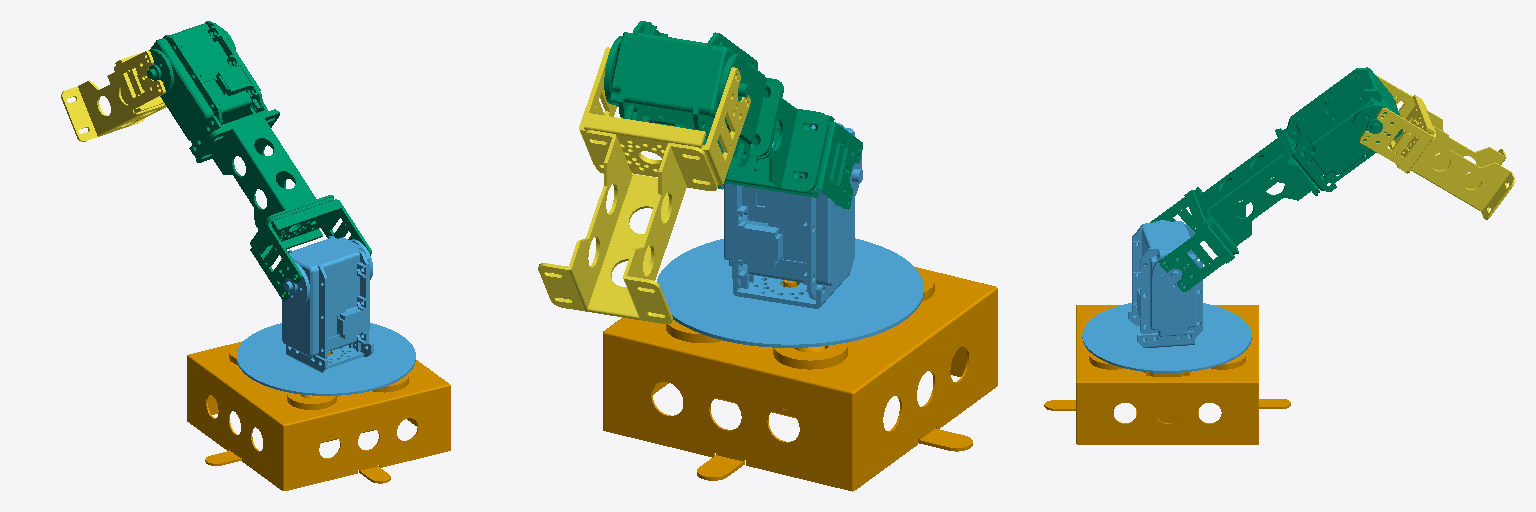
The robot description file, URDF, robot "manipulator":
<?xml version="1.0" ?>
<robot name="manipulator" xmlns:xacro="http://www.ros.org/wiki/xacro">


  <link name="base_link">
    <inertial>
      <origin xyz="0.013444564930782195 -0.00019917888712350437 0.029555600138510045" rpy="0 0 0"/>
      <mass value="1.1141882017236684"/>
      <inertia ixx="0.001002" iyy="0.001184" izz="0.001721" ixy="2e-06" iyz="-1e-06" ixz="6e-05"/>
    </inertial>
    <visual>
      <origin xyz="0 0 0" rpy="0 0 0"/>
      <geometry>
        <mesh filename="package://meshes/base_link.stl" scale="0.001 0.001 0.001"/>
      </geometry>
    </visual>
    <collision>
      <origin xyz="0 0 0" rpy="0 0 0"/>
      <geometry>
        <mesh filename="package://meshes/base_link.stl" scale="0.001 0.001 0.001"/>
      </geometry>
    </collision>
  </link>


  <joint name="Revolute 3" type="revolute">
    <origin xyz="0.0065 -0.000312 0.05053" rpy="0 0 0"/>
    <parent link="base_link"/>
    <child link="link_1_v8_1"/>
    <axis xyz="-0.0 -0.0 1.0"/>
    <limit effort="3.1" lower="-3.141592653589793" upper="3.141592653589793" velocity="8" />
  </joint>


  <link name="link_1_v8_1">
    <inertial>
      <origin xyz="5.029943102365358e-05 0.0003813689104856235 0.03456780301496049" rpy="0 0 0"/>
      <mass value="0.8207846070492503"/>
      <inertia ixx="0.000515" iyy="0.000588" izz="0.000353" ixy="-1.2e-05" iyz="-2e-06" ixz="3e-06"/>
    </inertial>
    <visual>
      <origin xyz="-0.0065 0.000312 -0.05053" rpy="0 0 0"/>
      <geometry>
        <mesh filename="package://meshes/link_1_v8_1.stl" scale="0.001 0.001 0.001"/>
      </geometry>
    </visual>
    <collision>
      <origin xyz="-0.0065 0.000312 -0.05053" rpy="0 0 0"/>
      <geometry>
        <mesh filename="package://meshes/link_1_v8_1.stl" scale="0.001 0.001 0.001"/>
      </geometry>
    </collision>
  </link>


  <joint name="Revolute 4" type="revolute">
    <origin xyz="-0.025999 0.000564 0.0563" rpy="0 0 0"/>
    <parent link="link_1_v8_1"/>
    <child link="link_2_v2_1"/>
    <axis xyz="-0.999997 0.002434 0.0"/>
    <limit effort="3.1" lower="-3.141592653589793" upper="3.141592653589793" velocity="8" />
  </joint>


  <link name="link_2_v2_1">
    <inertial>
      <origin xyz="0.026041862328154045 -0.0017482493063431198 0.12671042052148168" rpy="0 0 0"/>
      <mass value="0.8858378858885614"/>
      <inertia ixx="0.001536" iyy="0.001645" izz="0.000265" ixy="0.0" iyz="3e-06" ixz="2e-06"/>
    </inertial>
    <visual>
      <origin xyz="0.019499 -0.000252 -0.10683" rpy="0 0 0"/>
      <geometry>
        <mesh filename="package://meshes/link_2_v2_1.stl" scale="0.001 0.001 0.001"/>
      </geometry>
    </visual>
    <collision>
      <origin xyz="0.019499 -0.000252 -0.10683" rpy="0 0 0"/>
      <geometry>
        <mesh filename="package://meshes/link_2_v2_1.stl" scale="0.001 0.001 0.001"/>
      </geometry>
    </collision>
  </link>


  <joint name="Revolute 5" type="revolute">
    <origin xyz="0.051496 -0.00191 0.160291" rpy="0 0 0"/>
    <parent link="link_2_v2_1"/>
    <child link="link_3_v4_1"/>
    <axis xyz="0.999997 -0.002434 0.0"/>
    <limit effort="3.1" lower="-3.141592653589793" upper="3.141592653589793" velocity="8" />
  </joint>


  <link name="link_3_v4_1">
    <inertial>
      <origin xyz="-0.025993182500010006 0.0029150278125915138 0.05010618821037782" rpy="0 0 0"/>
      <mass value="0.12693277007853615"/>
      <inertia ixx="0.000118" iyy="0.000143" izz="5.4e-05" ixy="0.0" iyz="-7e-06" ixz="-0.0"/>
    </inertial>
    <visual>
      <origin xyz="-0.031997 0.001658 -0.267121" rpy="0 0 0"/>
      <geometry>
        <mesh filename="package://meshes/link_3_v4_1.stl" scale="0.001 0.001 0.001"/>
      </geometry>
    </visual>
    <collision>
      <origin xyz="-0.031997 0.001658 -0.267121" rpy="0 0 0"/>
      <geometry>
        <mesh filename="package://meshes/link_3_v4_1.stl" scale="0.001 0.001 0.001"/>
      </geometry>
    </collision>
  </link>


</robot>

--- Render facts (derived) ---
3 views of the same robot in one strip: view 1: azimuth 30°, elevation 25°; view 2: azimuth 150°, elevation 25°; view 3: azimuth 270°, elevation 25° (orthographic).
Model manipulator with 4 links and 3 joints (3 revolute), rooted at base_link, posed every joint at zero.
Links seen in each view (by area): view 1: base_link, link_2_v2_1, link_1_v8_1, link_3_v4_1; view 2: base_link, link_1_v8_1, link_3_v4_1, link_2_v2_1; view 3: link_2_v2_1, base_link, link_1_v8_1, link_3_v4_1.
Link boxes in pixels (box(x1,y1,x2,y2)): base_link: box(187, 341, 450, 490); link_2_v2_1: box(147, 21, 371, 300); link_1_v8_1: box(237, 236, 415, 395); link_3_v4_1: box(61, 50, 166, 141); base_link: box(603, 267, 997, 491); link_1_v8_1: box(657, 123, 923, 347); link_3_v4_1: box(538, 47, 750, 323); link_2_v2_1: box(604, 21, 862, 209); link_2_v2_1: box(1150, 67, 1402, 291); base_link: box(1044, 305, 1290, 444); link_1_v8_1: box(1082, 220, 1251, 372); link_3_v4_1: box(1360, 75, 1515, 219).
Bounding box of the posed robot: 0.1375 × 0.3004 × 0.2225 m (x, y, z).
4 mesh visuals loaded from 4 distinct referenced files (4 binary STL).